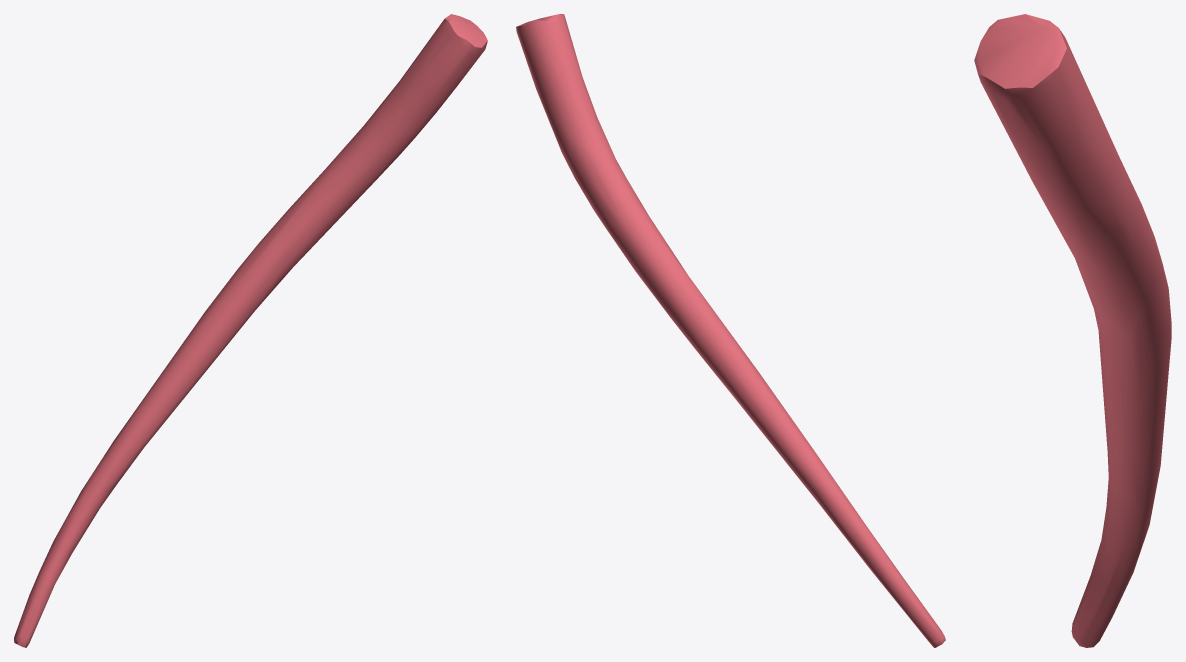
The model's file is fma68728_fj3005.glb.
The picture shows the model from 3 angles, left to right: view 1: azimuth 30°, elevation 25°; view 2: azimuth 150°, elevation 25°; view 3: azimuth 270°, elevation 25°; orthographic projection. The views are drawn at different scales.
Parts seen in each view (by area): view 1: FMA68728_FJ3005; view 2: FMA68728_FJ3005; view 3: FMA68728_FJ3005.
Part boxes in pixels (x1,y1,x2,y2): FMA68728_FJ3005: [14, 14, 487, 647]; FMA68728_FJ3005: [516, 14, 945, 647]; FMA68728_FJ3005: [974, 14, 1171, 647].
Bounding box in the file's own units: 0.0598 × 0.0678 × 0.0121.
